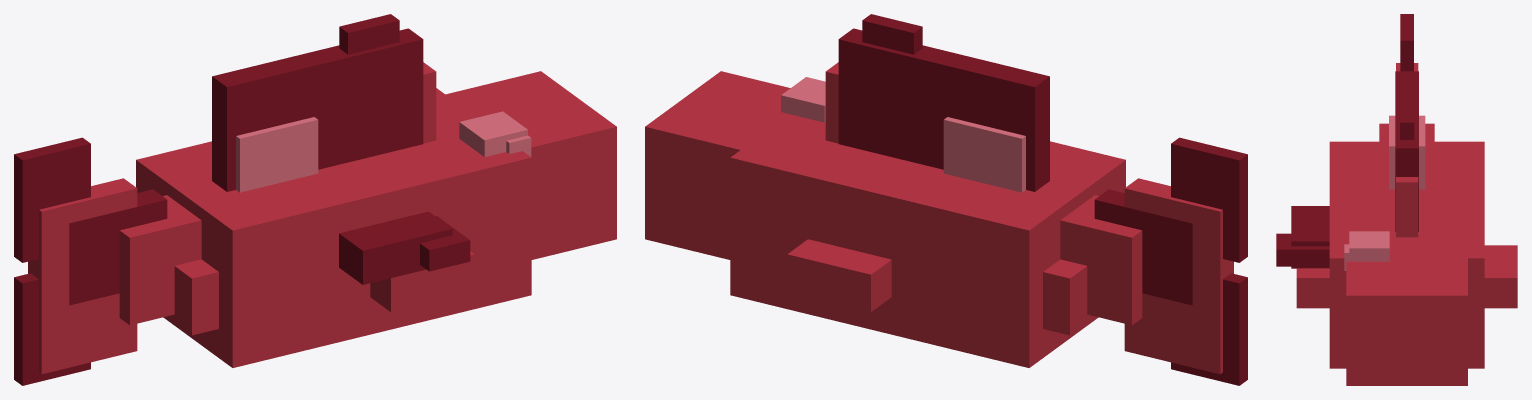
The model's file is fish_ruby_hawk.glb.
3 views of the same model, side by side, from view 1: azimuth 30°, elevation 25°; view 2: azimuth 150°, elevation 25°; view 3: azimuth 270°, elevation 25° (orthographic). The views are drawn at different scales.
Visible parts, largest first — view 1: FishArt_body, FishArt_dorsal, FishArt_tail, FishArt_pectoral, FishArt_specialty, FishArt_eye; view 2: FishArt_body, FishArt_dorsal, FishArt_tail, FishArt_specialty, FishArt_eye; view 3: FishArt_body, FishArt_pectoral, FishArt_dorsal, FishArt_eye, FishArt_specialty, FishArt_tail.
Boxes of the visible parts, bbox=[...] form: FishArt_body: bbox=[28, 62, 616, 374]; FishArt_dorsal: bbox=[212, 14, 423, 191]; FishArt_tail: bbox=[14, 137, 167, 385]; FishArt_pectoral: bbox=[339, 211, 470, 284]; FishArt_specialty: bbox=[236, 117, 318, 192]; FishArt_eye: bbox=[459, 111, 531, 156]; FishArt_body: bbox=[645, 62, 1233, 374]; FishArt_dorsal: bbox=[838, 14, 1049, 191]; FishArt_tail: bbox=[1094, 137, 1247, 385]; FishArt_specialty: bbox=[943, 117, 1025, 192]; FishArt_eye: bbox=[781, 77, 825, 122]; FishArt_body: bbox=[1296, 63, 1517, 385]; FishArt_pectoral: bbox=[1276, 206, 1329, 268]; FishArt_dorsal: bbox=[1395, 71, 1418, 231]; FishArt_eye: bbox=[1344, 231, 1389, 270]; FishArt_specialty: bbox=[1389, 115, 1425, 189]; FishArt_tail: bbox=[1400, 14, 1413, 71].
Size of the model in its own units: 0.3091 by 0.1442 by 0.1439.
